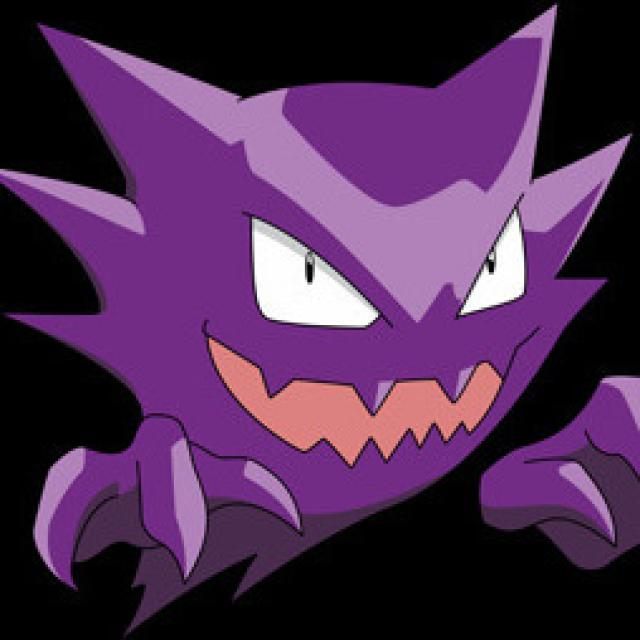Haunter: (2, 15, 568, 487)
